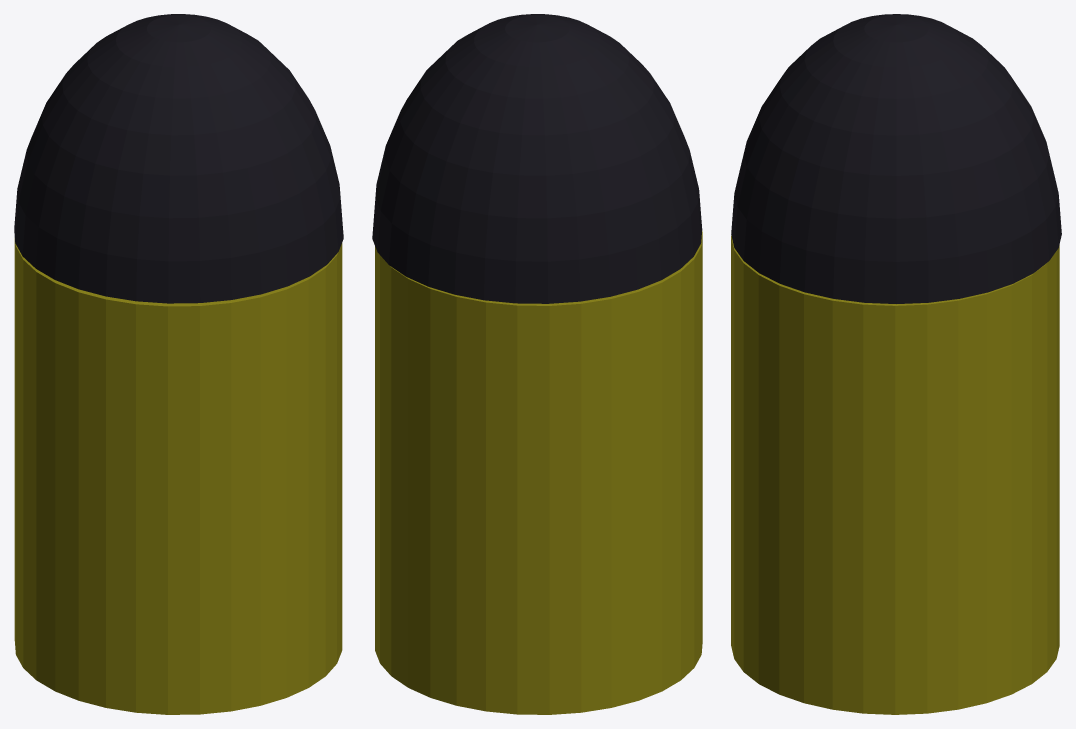
The model's file is bulletu.fbx.
The picture shows the model from 3 angles, left to right: view 1: azimuth 30°, elevation 25°; view 2: azimuth 150°, elevation 25°; view 3: azimuth 270°, elevation 25°; orthographic projection.
Visible parts, largest first — view 1: Cylinder, Sphere; view 2: Cylinder, Sphere; view 3: Cylinder, Sphere.
Boxes of the visible parts, <box> form: Cylinder: <box>14,238,342,714</box>; Sphere: <box>14,14,343,303</box>; Cylinder: <box>375,231,702,714</box>; Sphere: <box>372,14,702,303</box>; Cylinder: <box>731,236,1059,714</box>; Sphere: <box>731,14,1061,303</box>.
Bounding box in the file's own units: 147 × 304 × 147.
